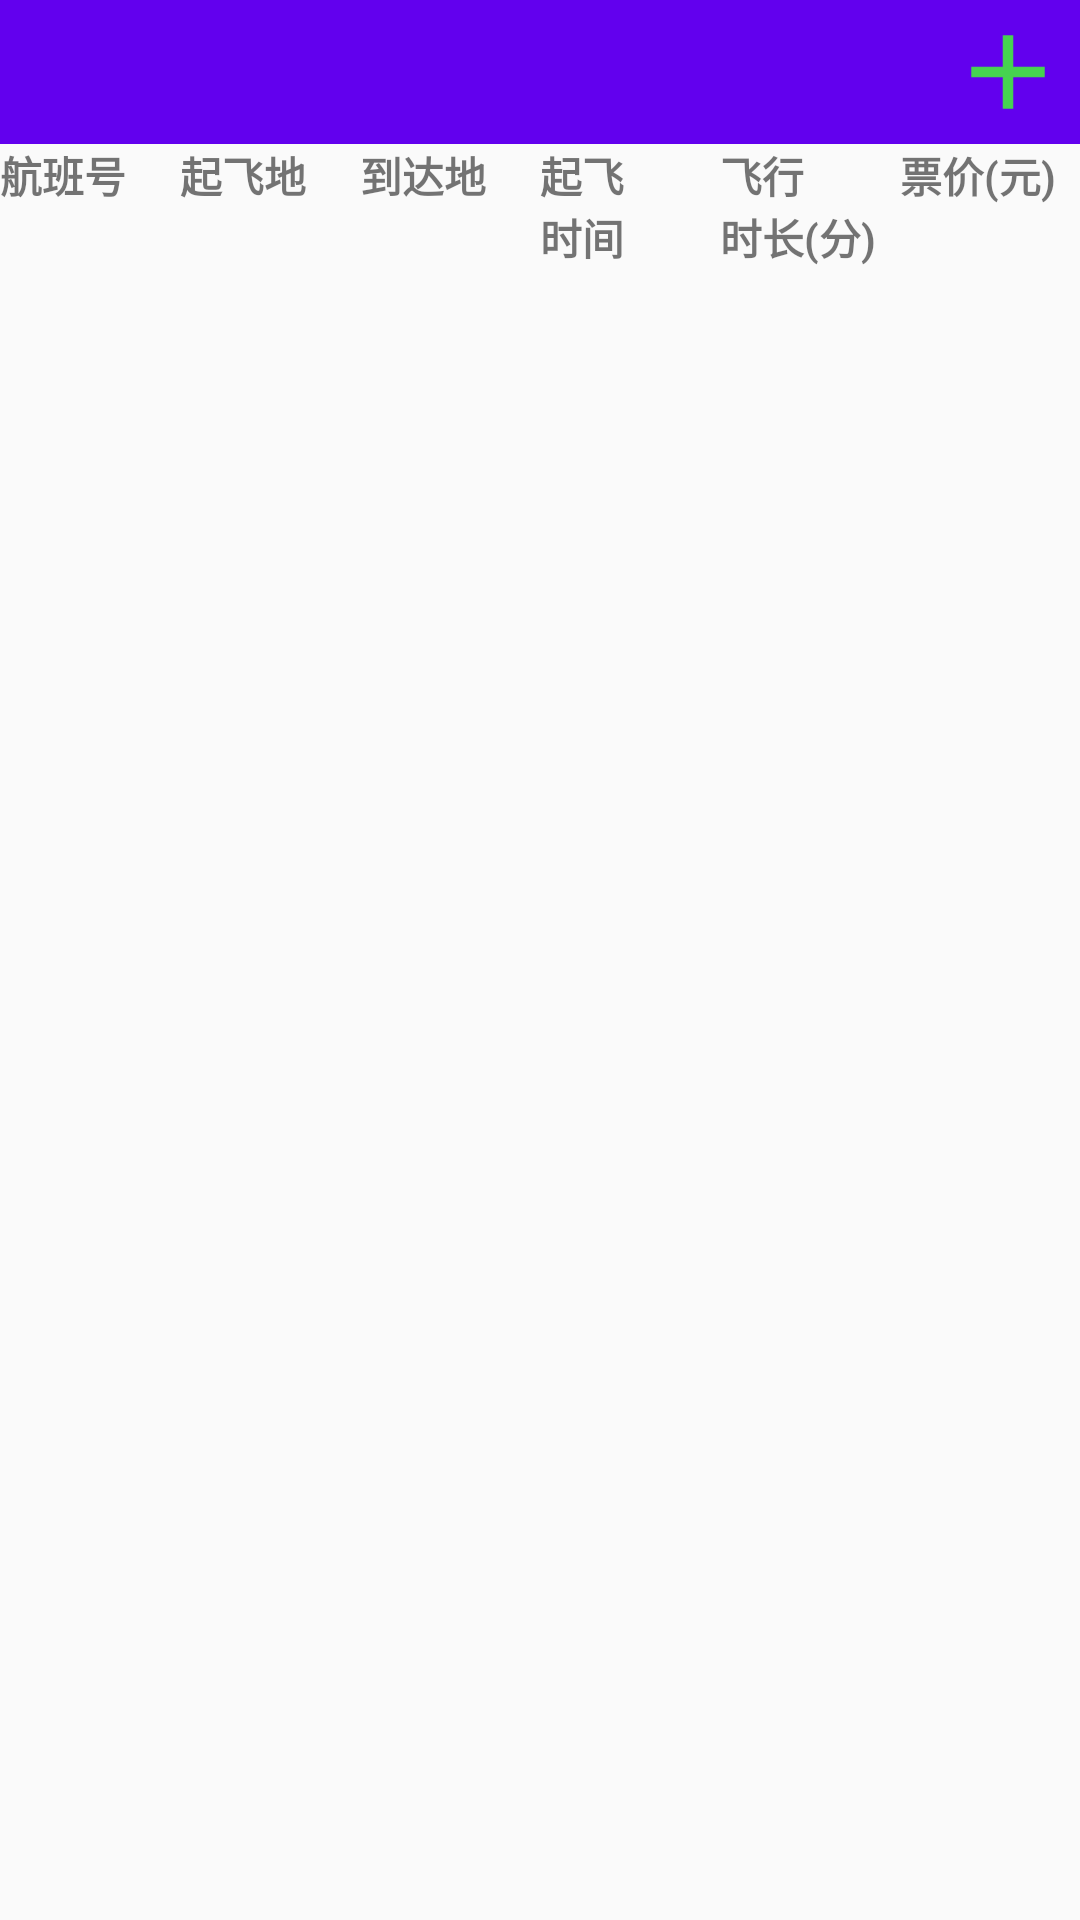

Icon click points for this 1080*1920 phone screenshot, format (x,y):
add: (1008,72)
